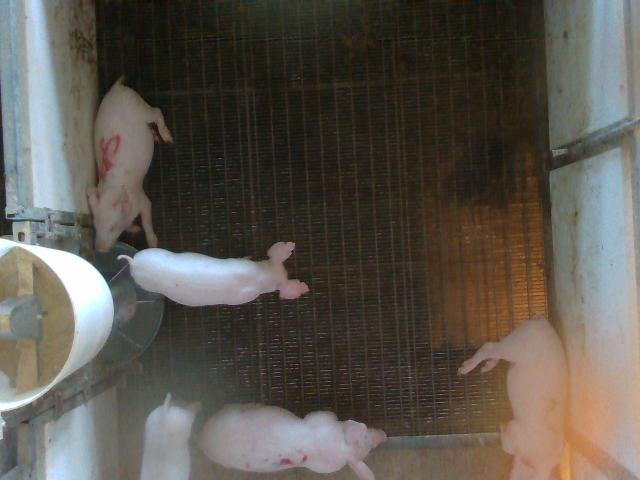pig-2: (459, 319, 568, 478)
pig-3: (199, 404, 386, 479)
pig-5: (88, 80, 172, 251)
